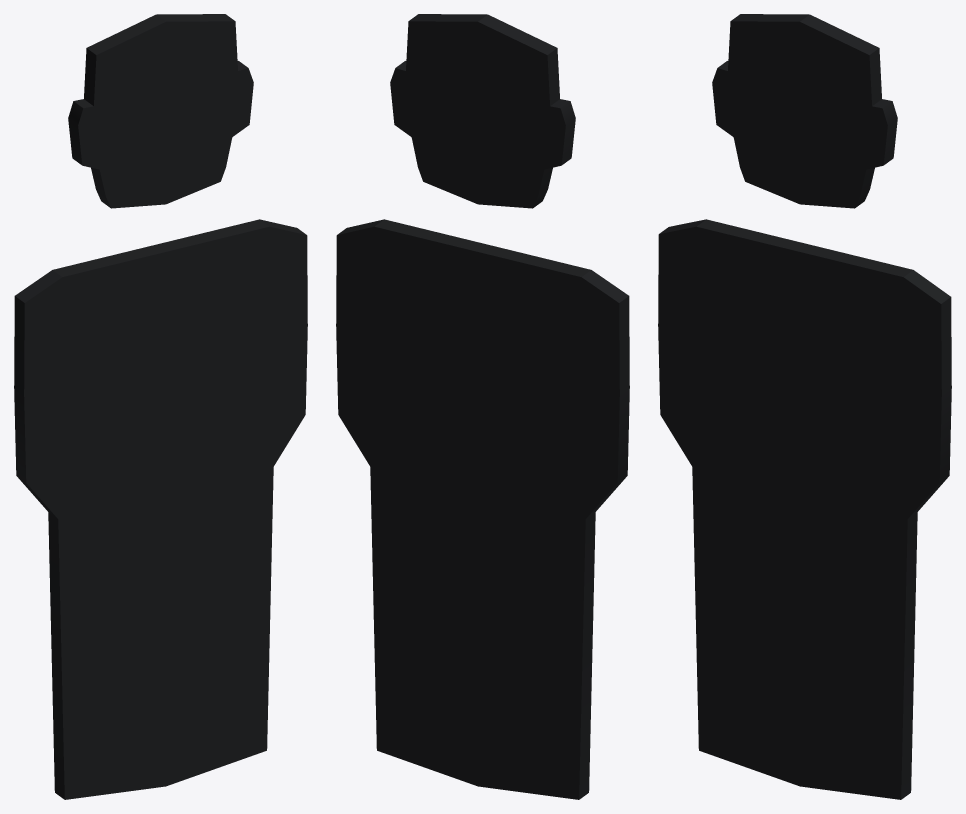
File: SM_Icon_Player_01.fbx
3 renders of one model, left to right at view 1: azimuth 30°, elevation 25°; view 2: azimuth 150°, elevation 25°; view 3: azimuth 330°, elevation 25°, orthographic.
Parts seen in each view (by area): view 1: SM_Icon_Player_01; view 2: SM_Icon_Player_01; view 3: SM_Icon_Player_01.
Part boxes in pixels (box(x1,y1,x2,y2)): SM_Icon_Player_01: box(14, 14, 307, 799); SM_Icon_Player_01: box(336, 14, 629, 799); SM_Icon_Player_01: box(658, 14, 951, 799).
Bounding box in the file's own units: 52.56 × 135 × 3.2.
